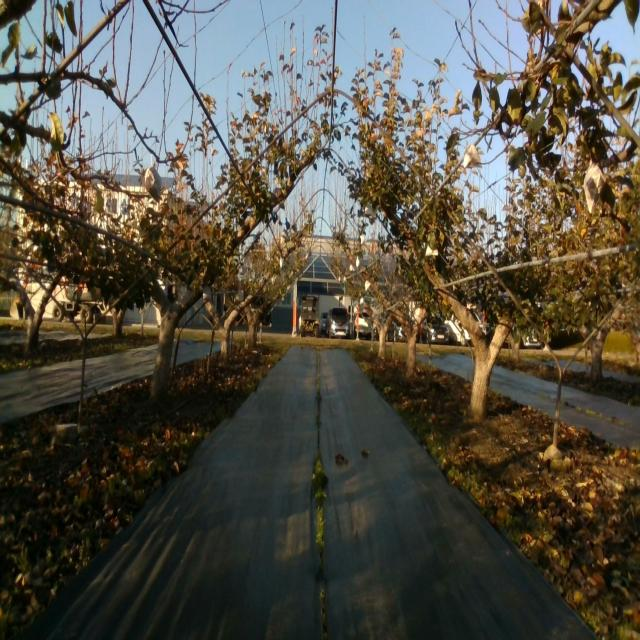pearbags: (582, 160, 605, 213), (144, 162, 162, 202), (463, 144, 482, 168)
